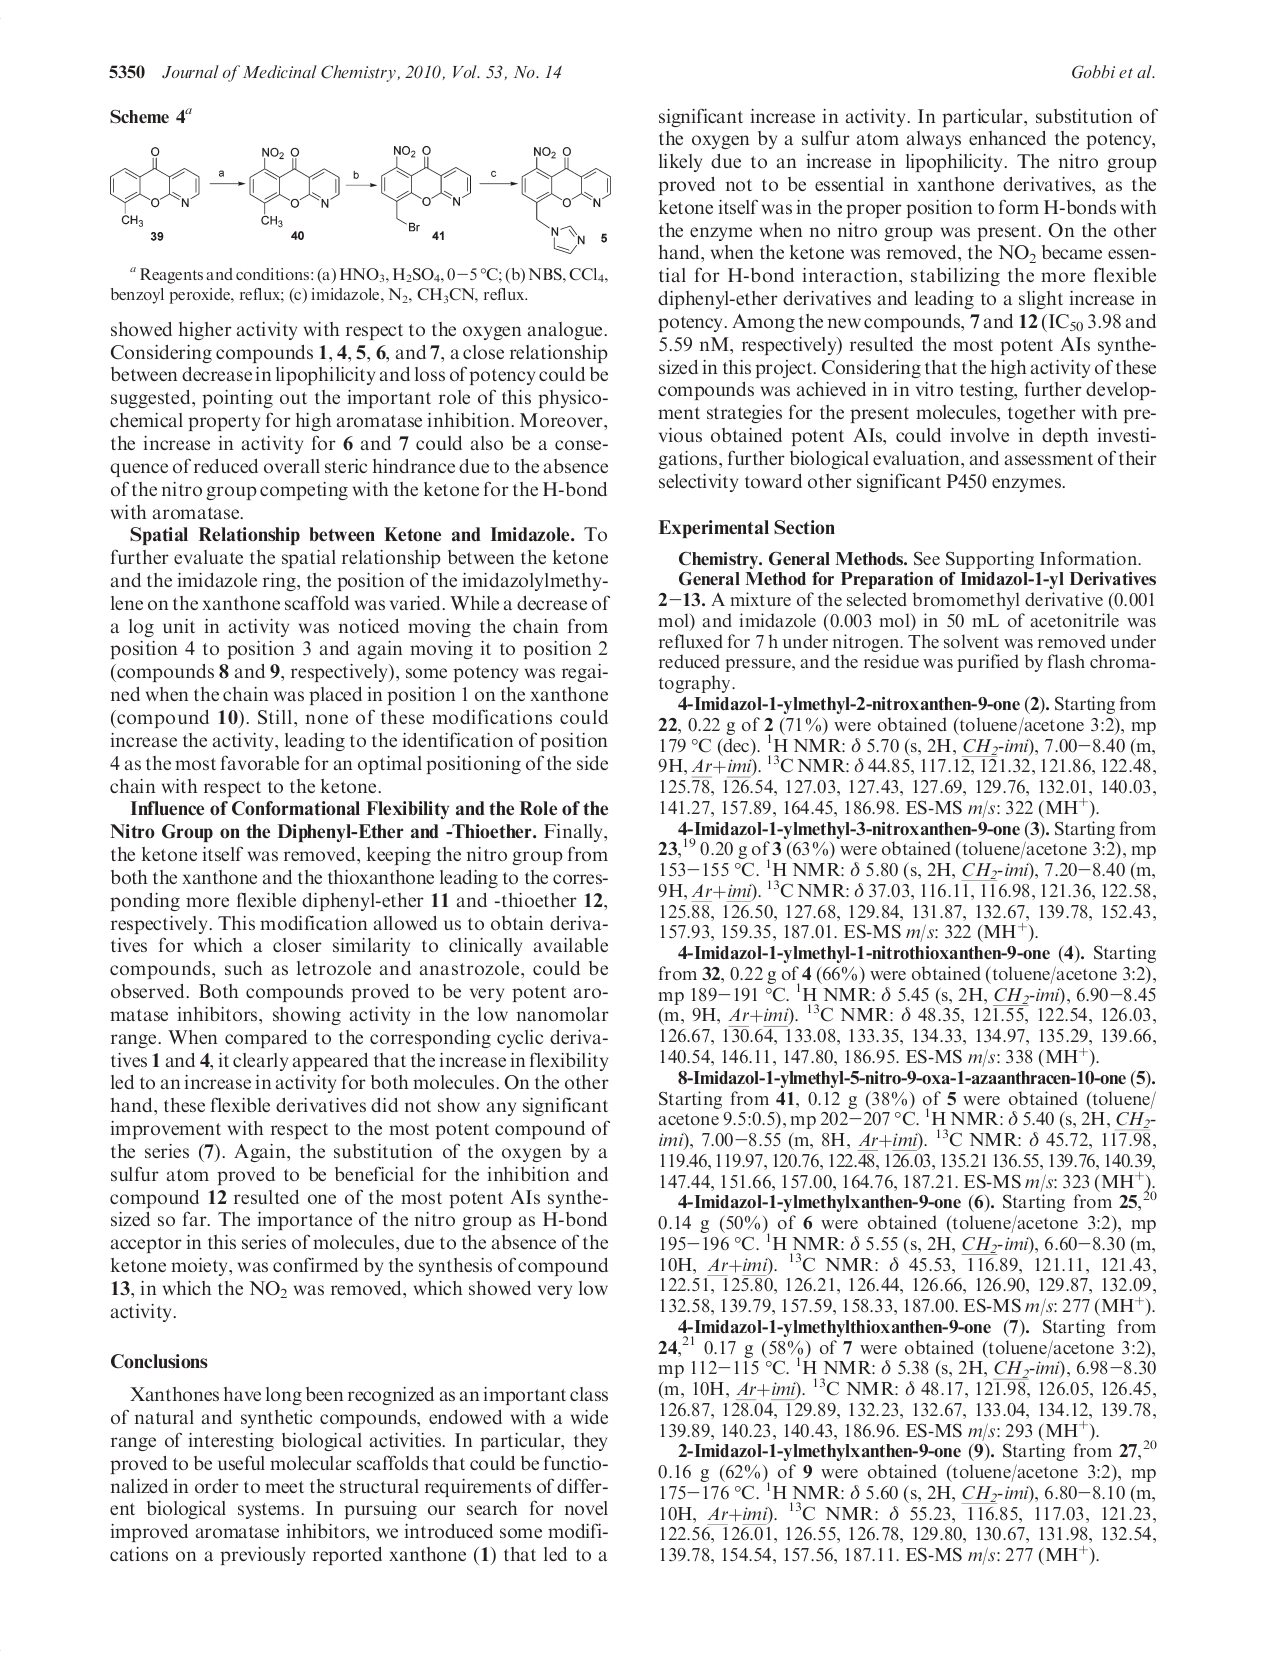exist_molecular: (521, 145, 613, 257), (380, 144, 472, 235), (109, 146, 203, 230), (249, 146, 340, 230)
